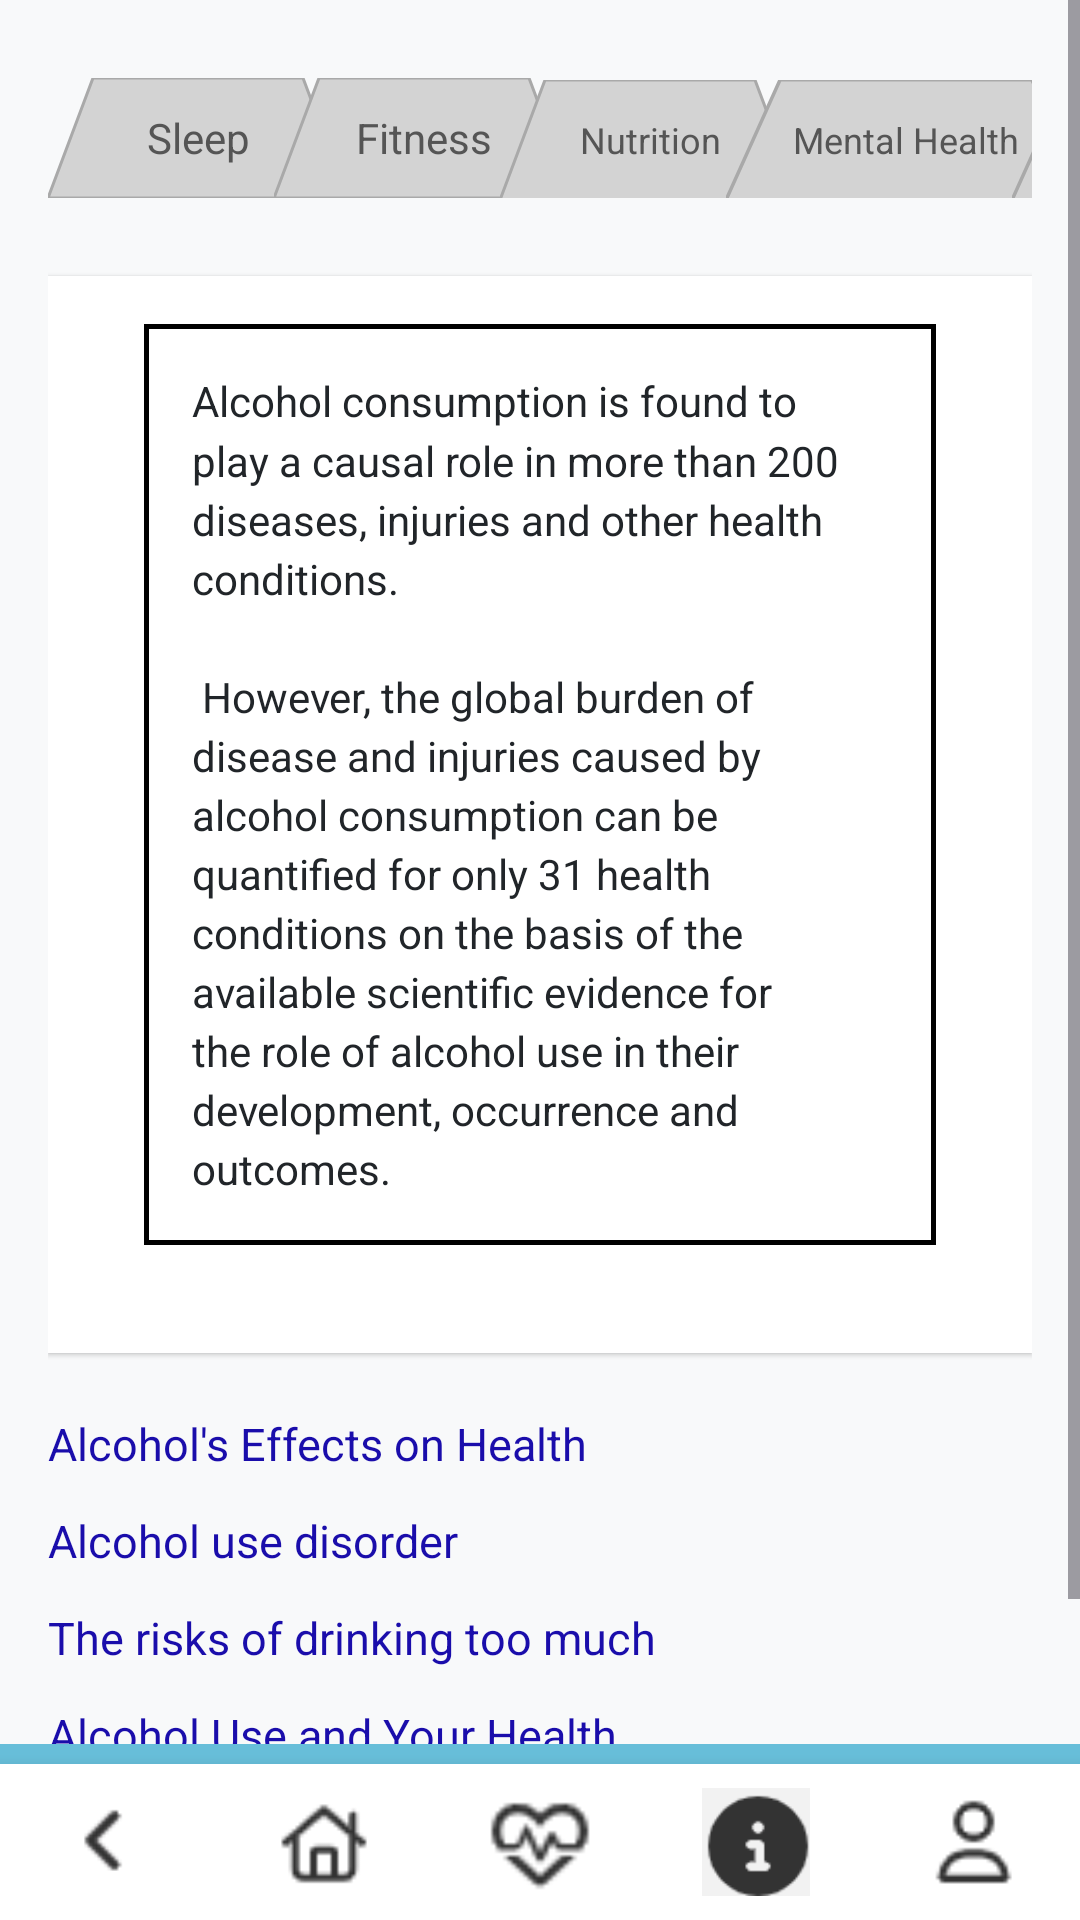

Icons on this 1080px x 1920px Android screen, each with the point to tap as (x=x, y=y):
Back: (x=103, y=1840)
Home: (x=324, y=1843)
Info: (x=758, y=1845)
Profile: (x=974, y=1842)
